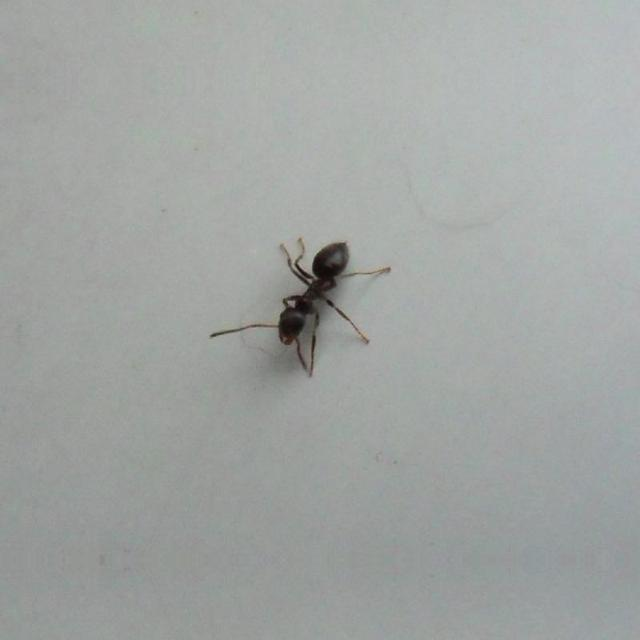Lasius: (256, 235, 370, 362)
